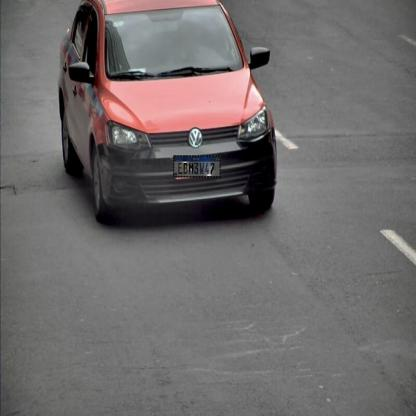PlacaM: (173, 156, 221, 178)
